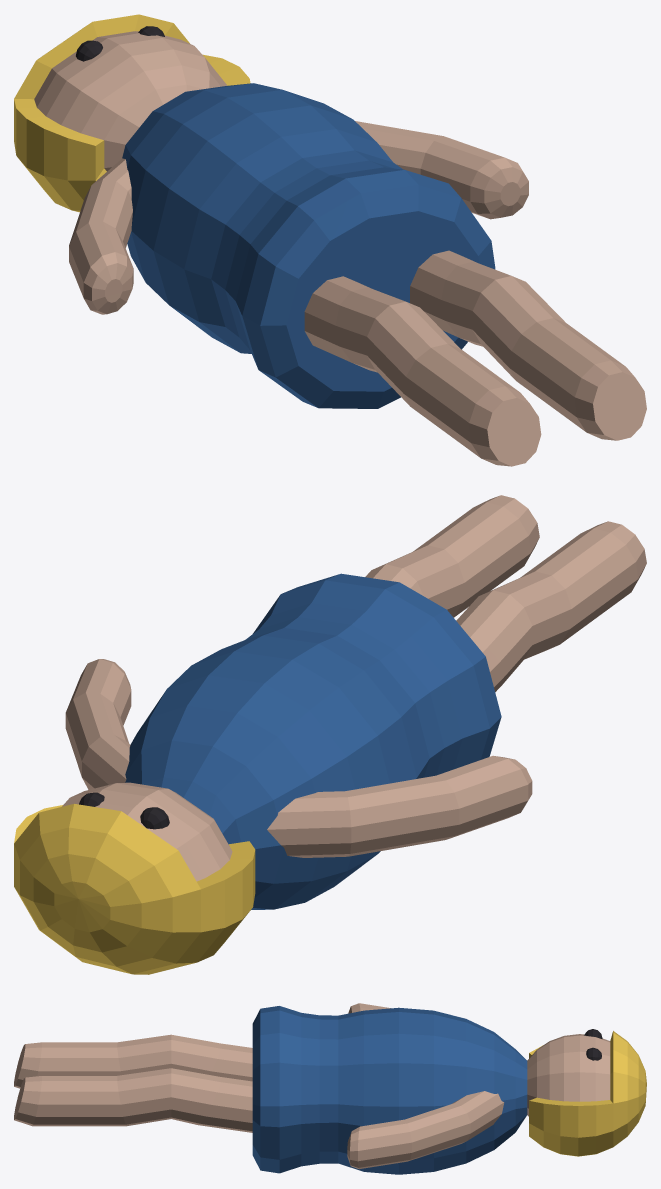
Rendered from doll_2.fbx.
3 renders of one model, top to bottom at view 1: azimuth 30°, elevation 25°; view 2: azimuth 150°, elevation 25°; view 3: azimuth 270°, elevation 25°, orthographic. The views are drawn at different scales.
Parts seen in each view (by area): view 1: doll; view 2: doll; view 3: doll.
Part boxes in pixels (x1,y1,x2,y2): doll: (14, 14, 646, 466); doll: (14, 495, 646, 974); doll: (14, 1003, 646, 1174).
Bounding box in the file's own units: 11.78 × 22.5 × 5.91.
